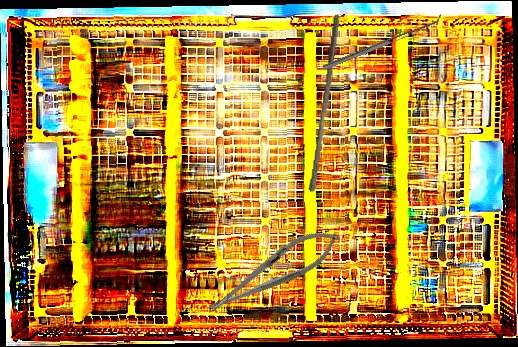Needle Holder: (197, 217, 348, 327)
Pusher: (308, 13, 341, 193)
Spatula Surgical: (320, 12, 444, 71)
